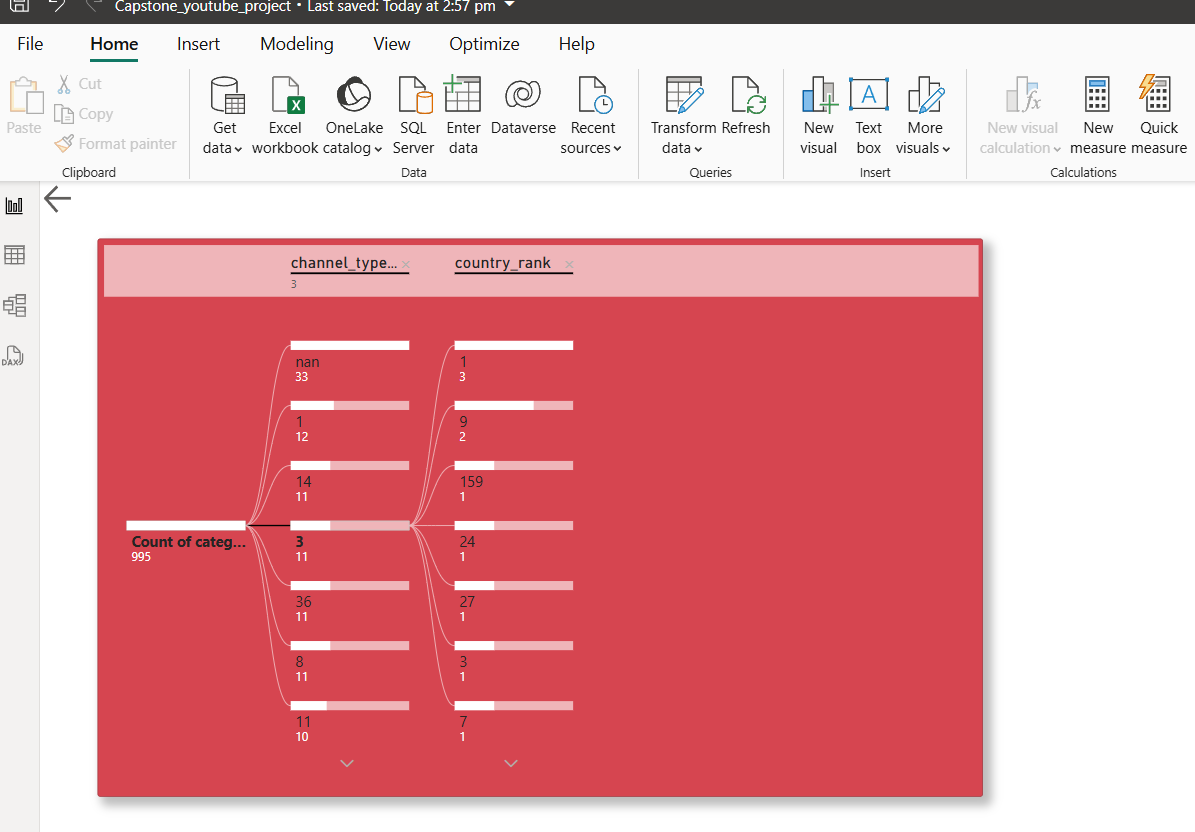

The dashboard page shown, as its layout file describes it:
{"tool":"powerbi","page":{"name":"Page 3","canvas":[1280,720],"ordinal":2},"visuals":[{"type":"actionButton","box":[0,0,100.5,39.9],"z":0},{"type":"decompositionTreeVisual","fields":{"Analyze":["CountNonNull(Global YouTube Statistics.category)"],"ExplainBy":["Global YouTube Statistics.channel_type_rank","Global YouTube Statistics.country_rank"]},"box":[63.3,63.3,972.1,612.7],"z":1000}]}

Visuals, with their boxes in screenshot pixels (x1, y1, x2, y2):
decompositionTreeVisual - CountNonNull(Global YouTube Statistics.category) x Global YouTube Statistics.channel_type_rank: Rect(93, 21, 988, 585)
